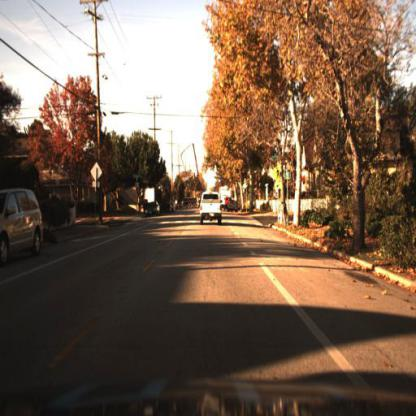car: (2, 187, 46, 269), (199, 186, 225, 226)
